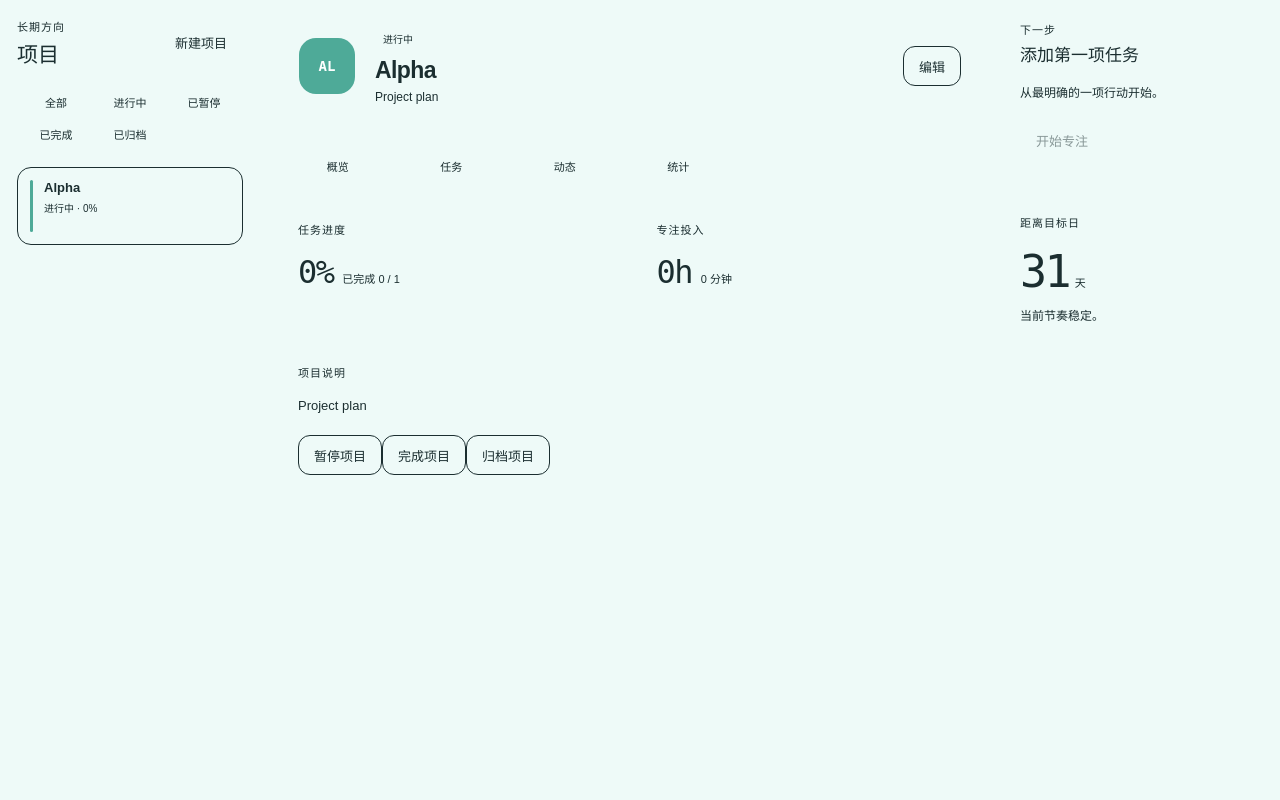
Test: ProjectWorkspace › creates a project with the complete persisted input
Check: the heading "Alpha" is shown, box [375, 56, 436, 82]
Click the button "新建项目": [201, 42] box [159, 22, 243, 62]
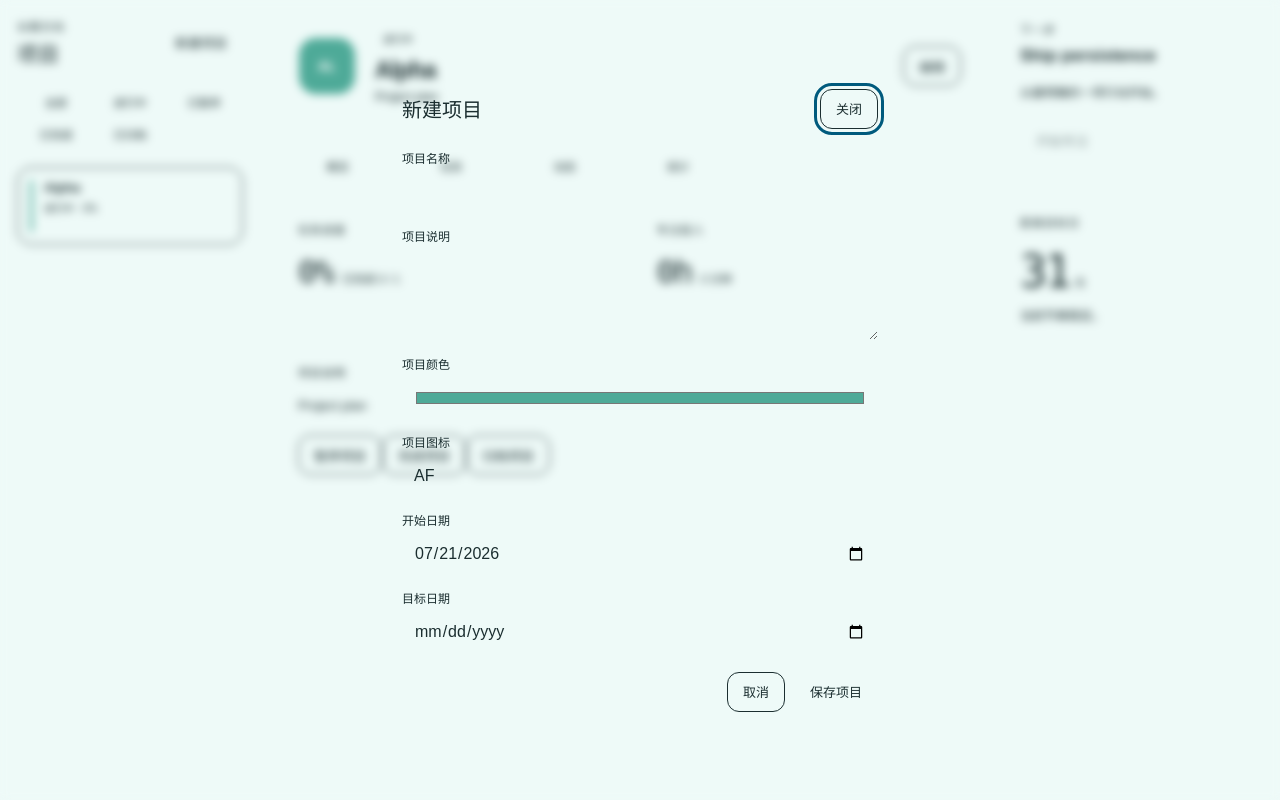
In the field labelled "项目名称": [640, 192] box [402, 172, 878, 212], type "New project"
In the text box labelled "项目说明": [640, 294] box [402, 250, 878, 340], type "Persistent plan"
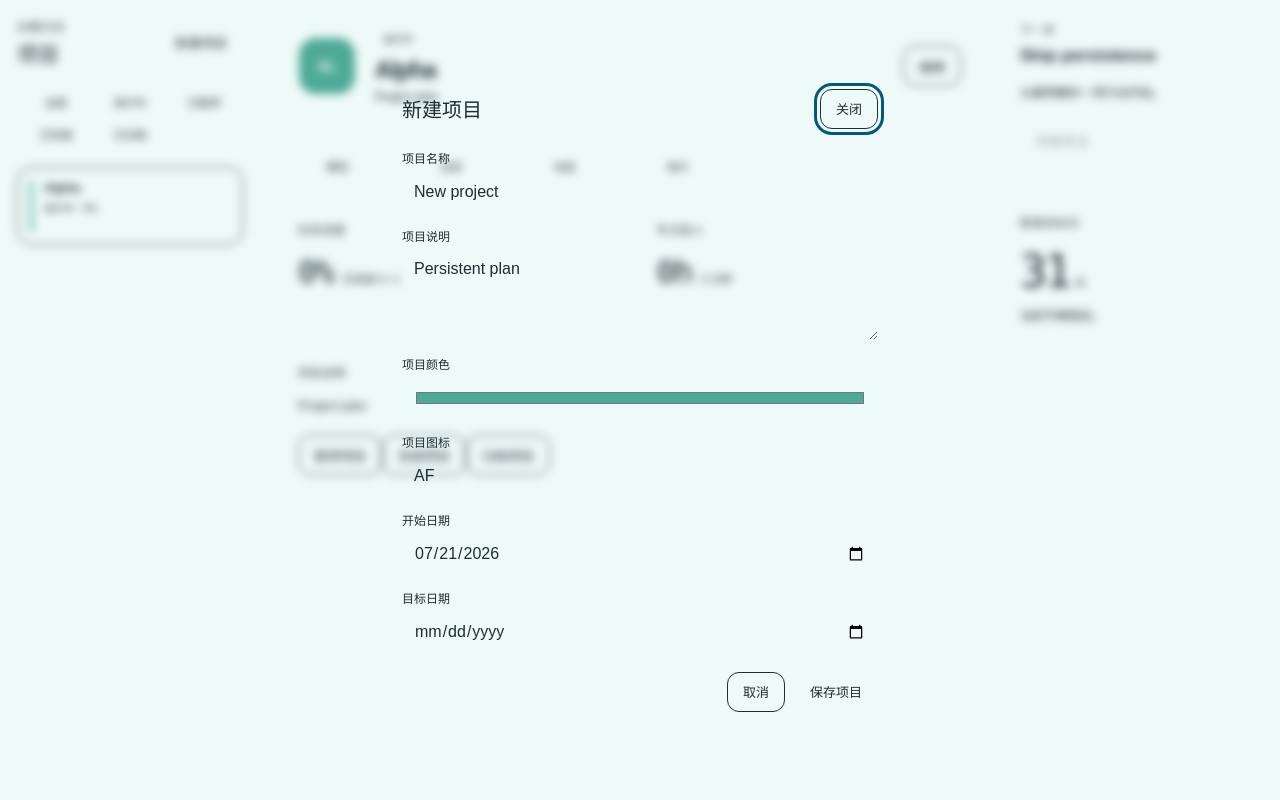
In the colour field labelled "项目颜色": [640, 398] box [402, 378, 878, 418], type "#123456"
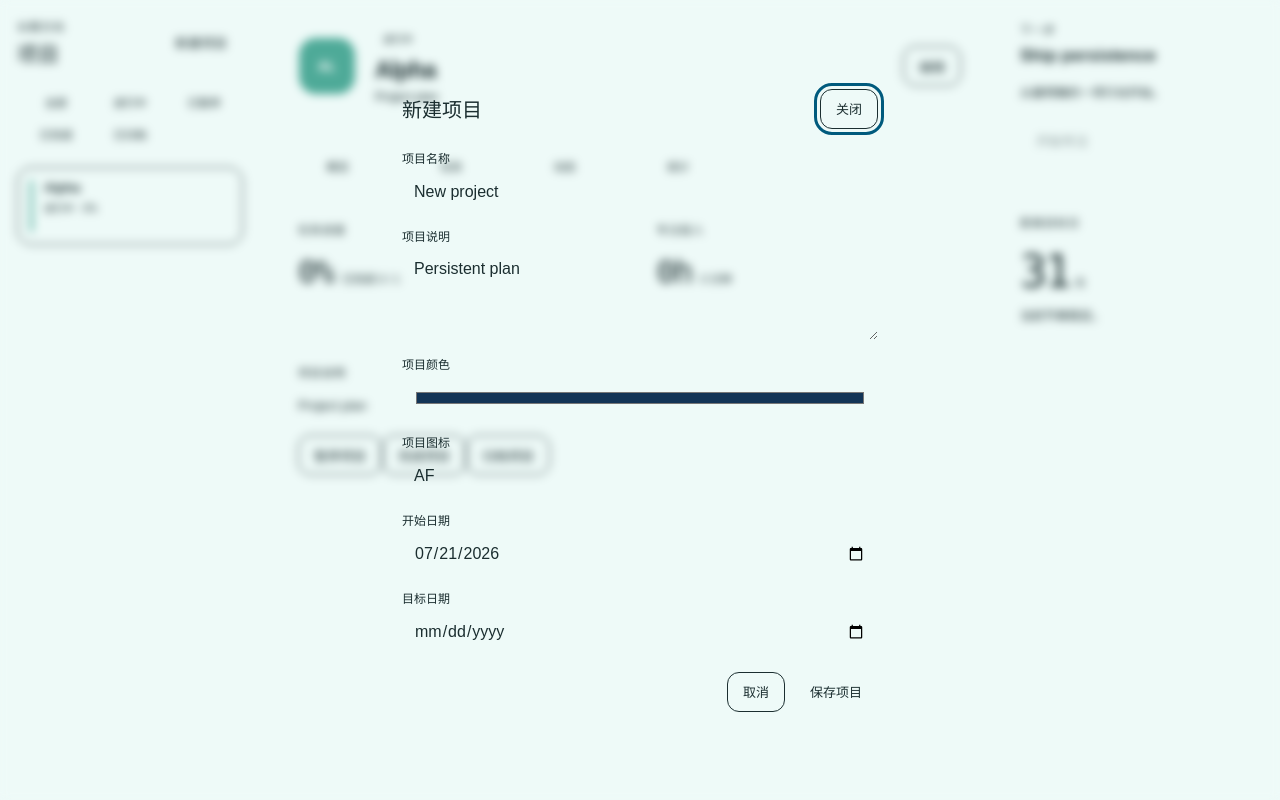
Replace the text in the field labelled "项目图标" with "NP": [640, 476] box [402, 456, 878, 496]
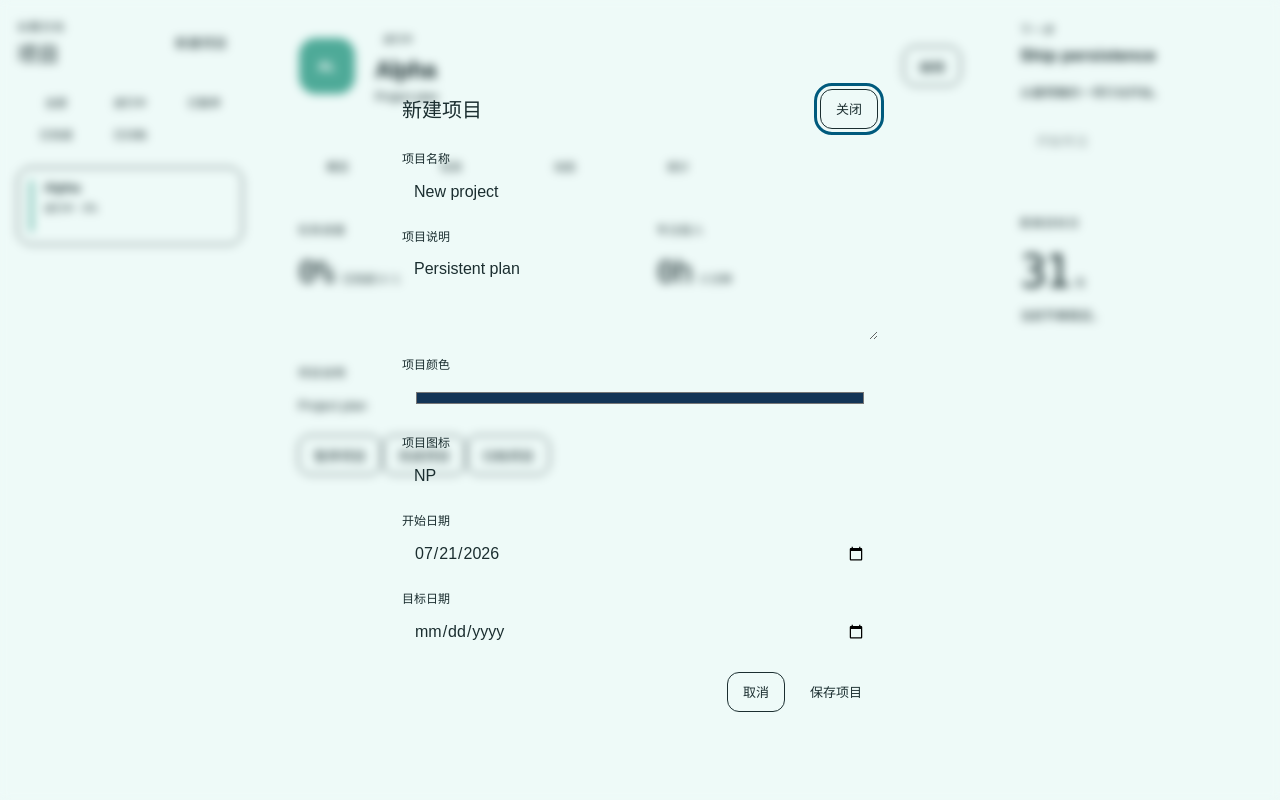
In the date field labelled "目标日期": [640, 632] box [402, 612, 878, 652], type "2026-08-01"
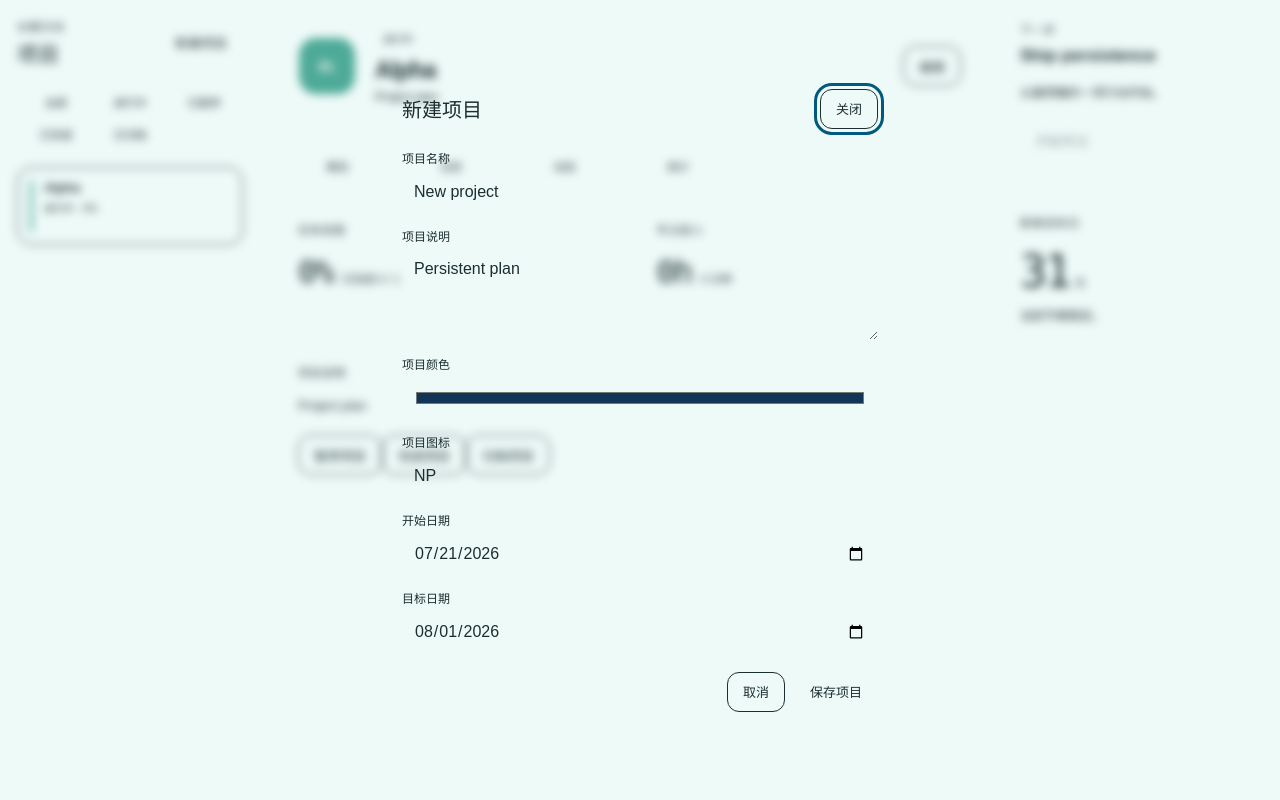
Click the button "保存项目": [836, 692] box [794, 672, 878, 712]
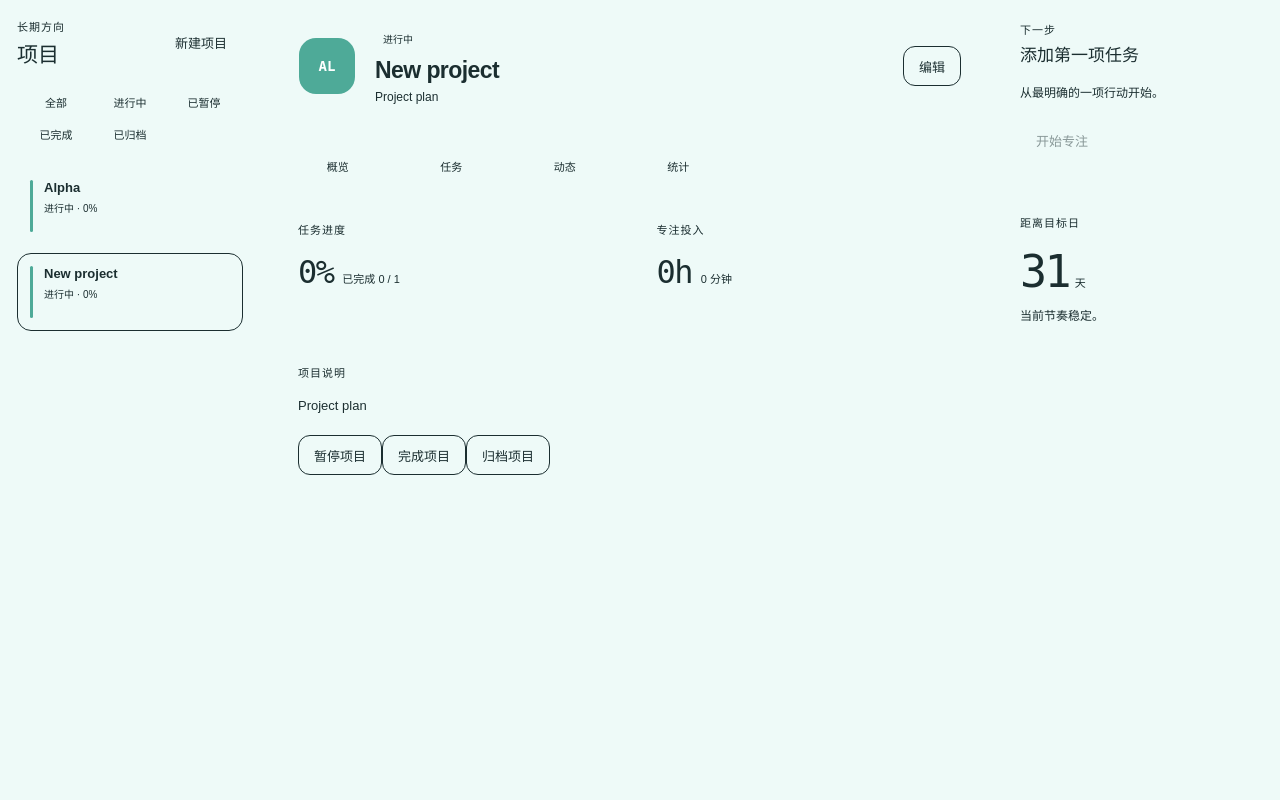
Check: the heading "New project" is shown, box [375, 56, 499, 82]
Check: the dialog is gone
